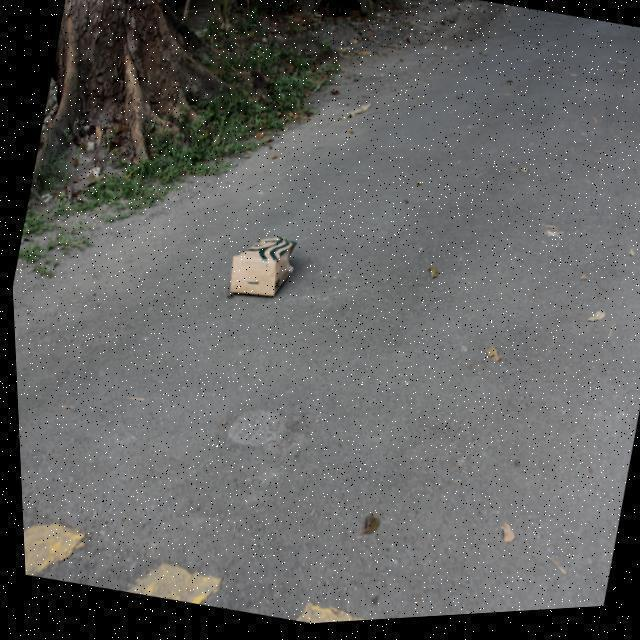Paper_Bag: (220, 229, 298, 308)
